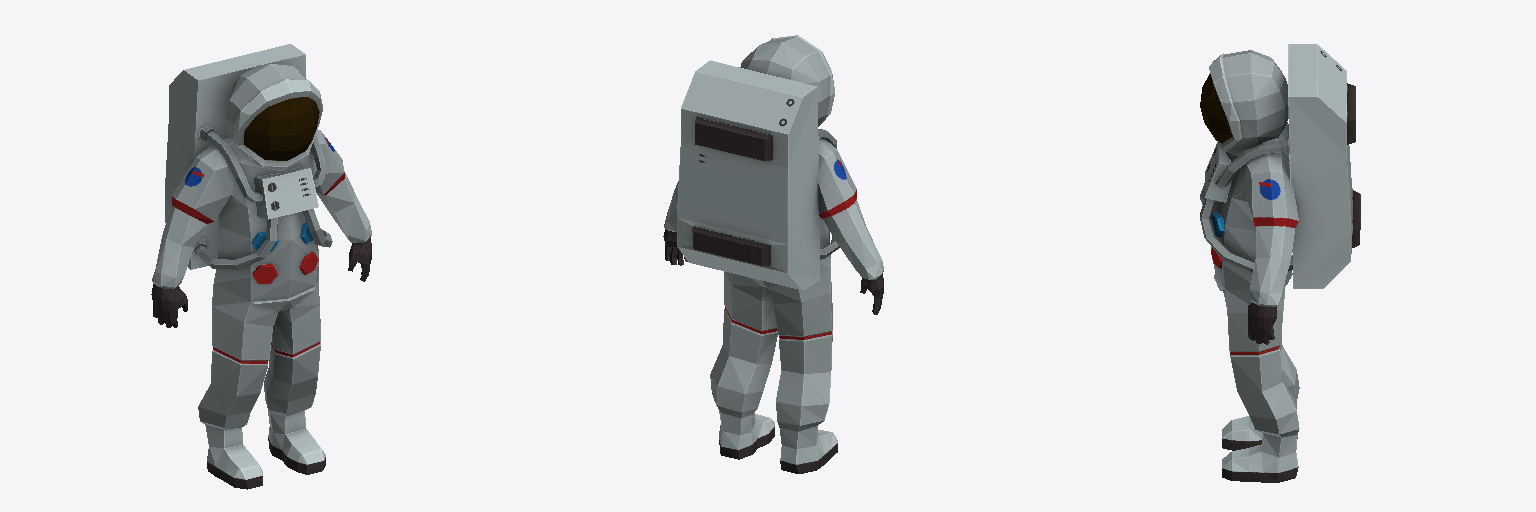
3 renders of one model, left to right at view 1: azimuth 30°, elevation 25°; view 2: azimuth 150°, elevation 25°; view 3: azimuth 270°, elevation 25°, orthographic.
Parts seen in each view (by area): view 1: Astronaut; view 2: Astronaut; view 3: Astronaut.
Boxes of the visible parts, box(x1,y1,x2,y2) form: Astronaut: box(151, 44, 371, 489); Astronaut: box(663, 35, 883, 473); Astronaut: box(1200, 44, 1360, 482).
Bounding box in the file's own units: 2.24 × 4.02 × 1.45.
Materials: 1 (1 with a texture image).